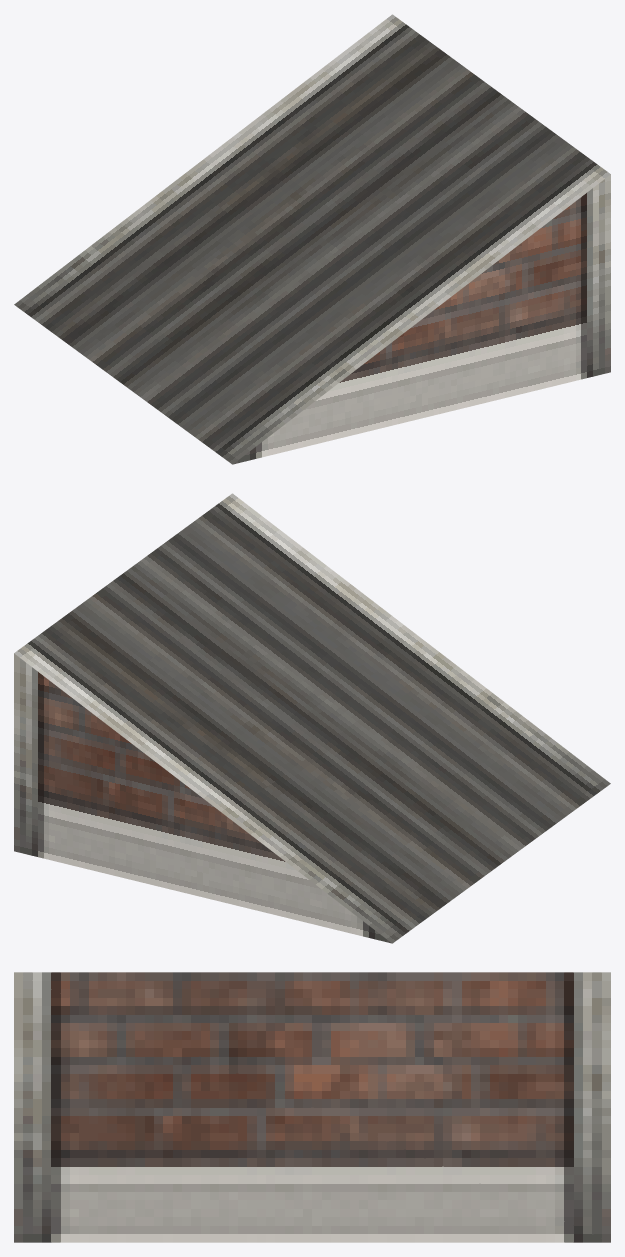
The model's file is wall-a-roof-slant.glb.
3 views of the same model, one above another, from view 1: azimuth 30°, elevation 25°; view 2: azimuth 150°, elevation 25°; view 3: azimuth 270°, elevation 25° (orthographic). The views are drawn at different scales.
Visible parts, largest first — view 1: wall-a-roof-slant; view 2: wall-a-roof-slant; view 3: wall-a-roof-slant.
Boxes of the visible parts, x1=… form: wall-a-roof-slant: x1=14, y1=14, x2=610, y2=464; wall-a-roof-slant: x1=14, y1=493, x2=610, y2=943; wall-a-roof-slant: x1=14, y1=972, x2=610, y2=1242.
Bounding box in the file's own units: 1 × 0.5 × 1.
3 materials, 3 textured.
